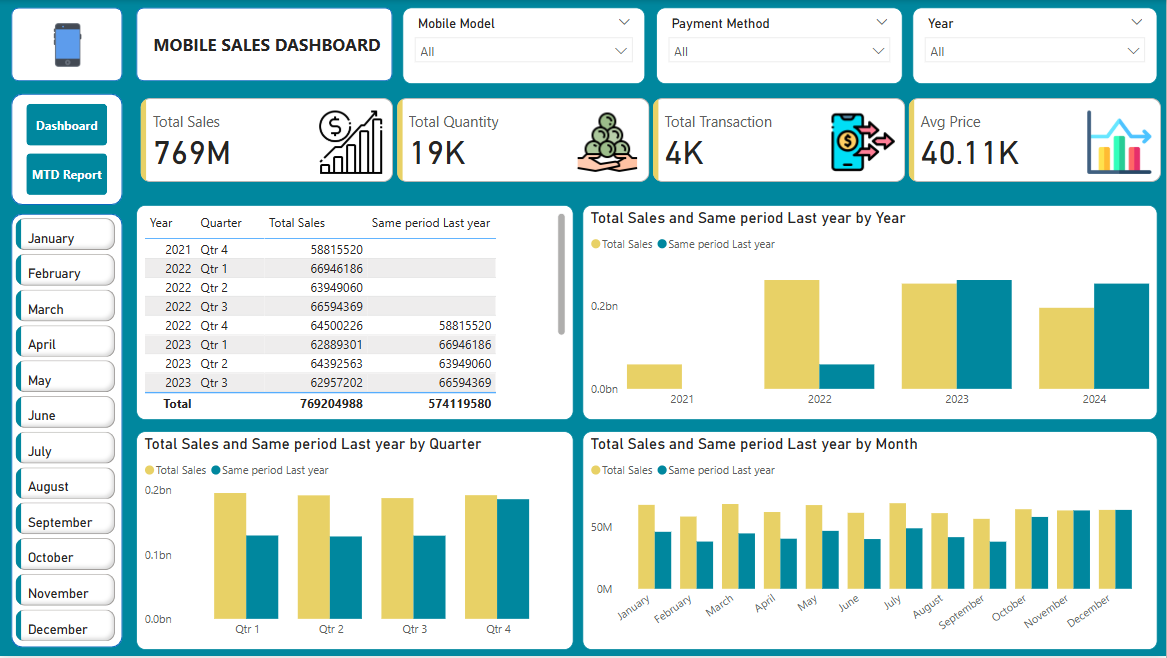

What the dashboard file says about the page in this screenshot:
{"tool":"powerbi","page":{"name":"Same Period Last Year","canvas":[1280,720],"ordinal":2},"visuals":[{"type":"shape","box":[12.3,8.2,122.1,81],"z":0},{"type":"image","box":[24.7,20.6,98.8,57.6],"z":1000},{"type":"shape","box":[12.3,102.9,122.1,122.1],"z":2000},{"type":"shape","box":[12.3,234.6,122.1,476.2],"z":3000},{"type":"advancedSlicerVisual","fields":{"Values":["Custom Calendar.Date.Variation.Date Hierarchy.Month"]},"box":[12.3,234.6,119.4,485.8],"z":4000},{"type":"cardVisual","fields":{"Data":["sales_data.Total Sales","sales_data.Total Quantity","sales_data.Total Transaction","sales_data.Avg Price"]},"box":[149.6,102.9,1130.7,102.9],"z":5000},{"type":"slicer","fields":{"Values":["sales_data.Mobile Model"]},"box":[441.9,8.2,266.2,83.7],"z":6000},{"type":"slicer","fields":{"Values":["sales_data.Payment Method"]},"box":[720.4,8.2,270.3,83.7],"z":7000},{"type":"slicer","fields":{"Values":["Custom Calendar.Date.Variation.Date Hierarchy.Year"]},"box":[1001.7,8.2,269,83.7],"z":8000},{"type":"shape","box":[149.6,8.2,281.3,81],"z":9000},{"type":"textbox","box":[163.3,31.6,365,57.6],"z":10000},{"type":"tableEx","fields":{"Values":["Custom Calendar.Date.Variation.Date Hierarchy.Year","Custom Calendar.Date.Variation.Date Hierarchy.Quarter","sales_data.Total Sales","sales_data.Same period Last year"]},"box":[149.6,225,480.3,236],"z":10001},{"type":"clusteredColumnChart","fields":{"Category":["Custom Calendar.Date.Variation.Date Hierarchy.Year","Custom Calendar.Date.Variation.Date Hierarchy.Quarter"],"Y":["sales_data.Total Sales","sales_data.Same period Last year"]},"box":[639.5,225,631.2,236],"z":10002},{"type":"clusteredColumnChart","fields":{"Y":["sales_data.Total Sales","sales_data.Same period Last year"],"Category":["Custom Calendar.Date.Variation.Date Hierarchy.Year","Custom Calendar.Date.Variation.Date Hierarchy.Quarter","Custom Calendar.Date.Variation.Date Hierarchy.Month","Custom Calendar.Date.Variation.Date Hierarchy.Day"]},"box":[639.5,473.4,631.2,240.1],"z":10003},{"type":"clusteredColumnChart","fields":{"Category":["Custom Calendar.Date.Variation.Date Hierarchy.Year","Custom Calendar.Date.Variation.Date Hierarchy.Quarter"],"Y":["sales_data.Total Sales","sales_data.Same period Last year"]},"box":[149.6,473.4,480.3,240.1],"z":10004},{"type":"pageNavigator","box":[28.8,113.9,89.2,101.5],"z":10005}]}

Visuals, with their boxes in screenshot pixels (x1, y1, x2, y2), scaled from the page's 1280x720 canvas onto the 1167x658 screenshot:
shape: pyautogui.locateOnScreen(11, 7, 123, 82)
image: pyautogui.locateOnScreen(23, 19, 113, 71)
shape: pyautogui.locateOnScreen(11, 94, 123, 206)
shape: pyautogui.locateOnScreen(11, 214, 123, 650)
advancedSlicerVisual - Custom Calendar.Date.Variation.Date Hierarchy.Month: pyautogui.locateOnScreen(11, 214, 120, 657)
cardVisual - sales_data.Total Sales x sales_data.Total Quantity: pyautogui.locateOnScreen(136, 94, 1166, 188)
slicer - sales_data.Mobile Model: pyautogui.locateOnScreen(403, 7, 646, 84)
slicer - sales_data.Payment Method: pyautogui.locateOnScreen(657, 7, 903, 84)
slicer - Custom Calendar.Date.Variation.Date Hierarchy.Year: pyautogui.locateOnScreen(913, 7, 1159, 84)
shape: pyautogui.locateOnScreen(136, 7, 393, 82)
textbox: pyautogui.locateOnScreen(149, 29, 482, 82)
tableEx - Custom Calendar.Date.Variation.Date Hierarchy.Year x Custom Calendar.Date.Variation.Date Hierarchy.Quarter: pyautogui.locateOnScreen(136, 206, 574, 421)
clusteredColumnChart - Custom Calendar.Date.Variation.Date Hierarchy.Year x Custom Calendar.Date.Variation.Date Hierarchy.Quarter: pyautogui.locateOnScreen(583, 206, 1159, 421)
clusteredColumnChart - sales_data.Total Sales x sales_data.Same period Last year: pyautogui.locateOnScreen(583, 433, 1159, 652)
clusteredColumnChart - Custom Calendar.Date.Variation.Date Hierarchy.Year x Custom Calendar.Date.Variation.Date Hierarchy.Quarter: pyautogui.locateOnScreen(136, 433, 574, 652)
pageNavigator: pyautogui.locateOnScreen(26, 104, 108, 197)
